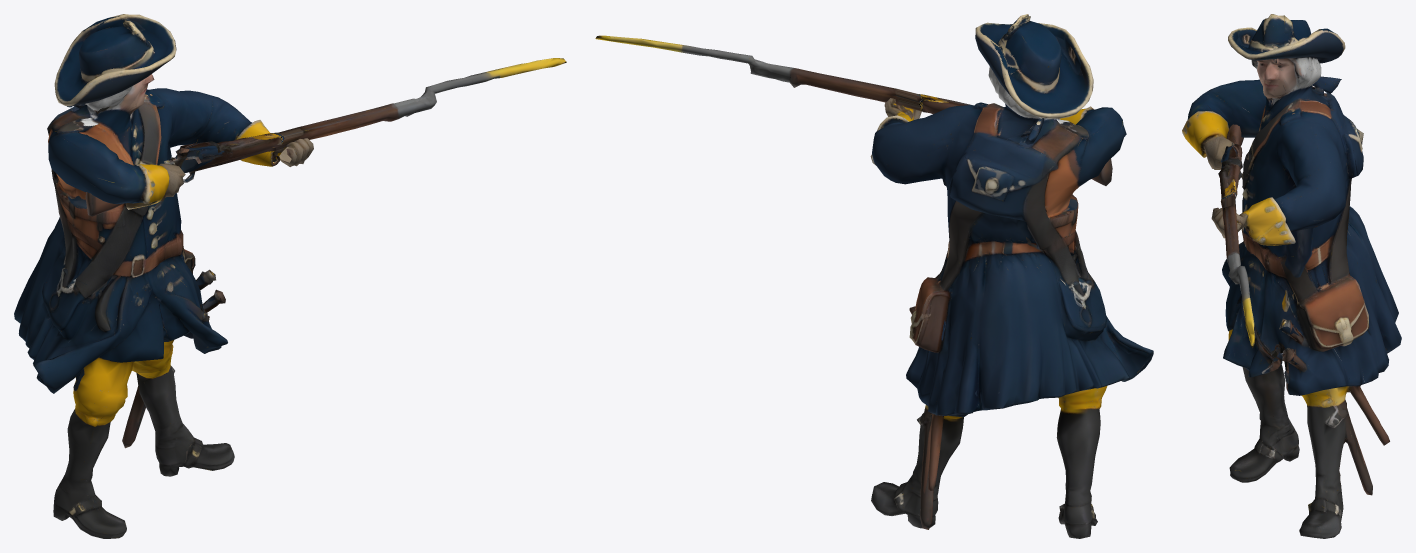
File: MUSKETEER_SWE_Atk.glb
3 renders of one model, left to right at view 1: azimuth 30°, elevation 25°; view 2: azimuth 150°, elevation 25°; view 3: azimuth 270°, elevation 25°, orthographic. The views are drawn at different scales.
Visible parts, largest first — view 1: Mesh1.003; view 2: Mesh1.003; view 3: Mesh1.003.
Boxes of the visible parts, x1=… form: Mesh1.003: x1=14, y1=14, x2=566, y2=538; Mesh1.003: x1=595, y1=14, x2=1153, y2=538; Mesh1.003: x1=1182, y1=14, x2=1401, y2=538.
Bounding box in the file's own units: 2.13 × 1.87 × 0.7792.
1 material, 1 textured.
